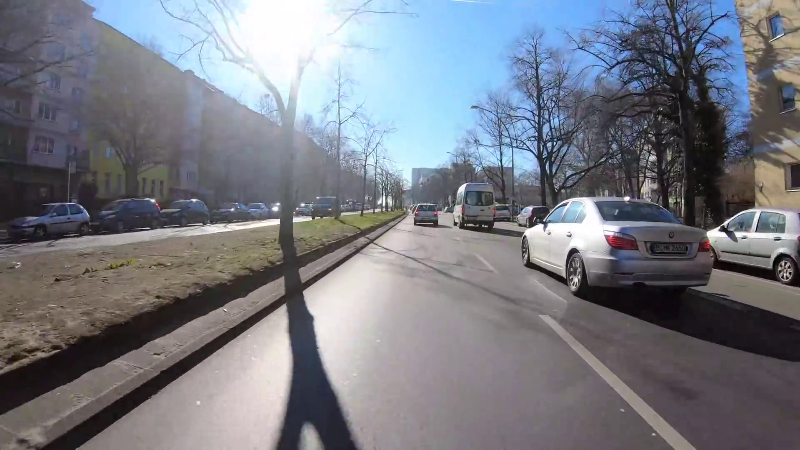Plate: (646, 241, 691, 257)
